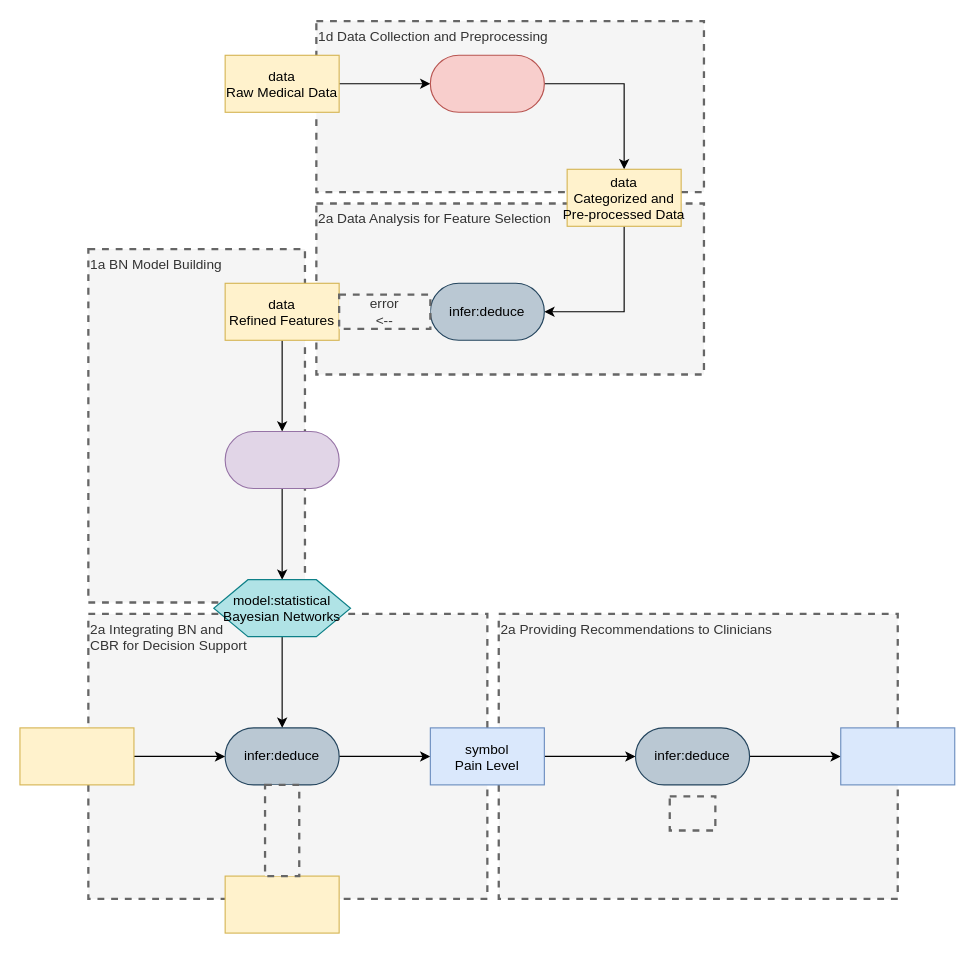
The diagram is 978 pixels wide and 953 high, and some of its shapes have lost their labels. Here are the shapes that lost their labels. From the top down, the centre of each, then its label:
the point at 486,83: transform:embed
the point at 281,459: generate:train
the point at 76,756: data Patient Data
the point at 897,756: symbol Pain Classification with Supporting info
the point at 281,830: error -->
the point at 692,813: error
the point at 281,904: data Previous Cases
